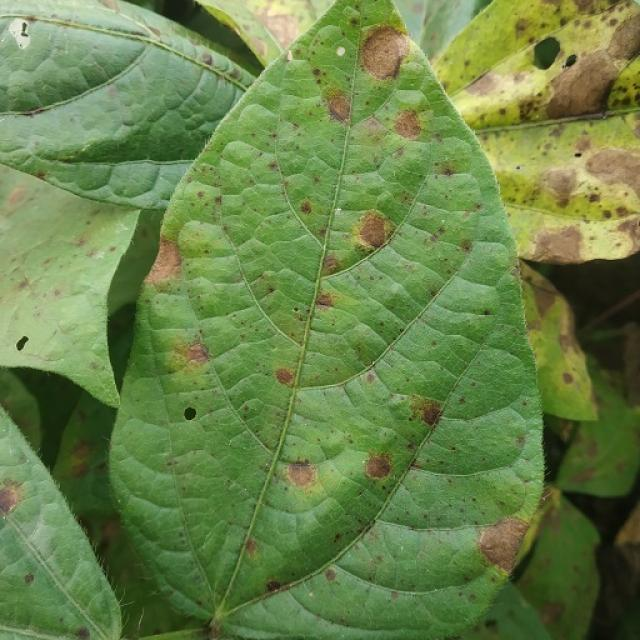Anthracnose: (579, 147, 640, 206), (478, 517, 531, 571), (359, 26, 409, 79), (350, 204, 396, 259), (167, 336, 211, 379), (145, 238, 183, 284), (544, 166, 583, 203), (407, 396, 442, 428), (531, 37, 563, 71), (393, 110, 421, 139), (364, 453, 393, 481), (286, 461, 316, 488), (0, 482, 24, 515), (327, 94, 351, 122), (359, 115, 385, 137), (274, 366, 296, 386), (573, 134, 593, 154), (321, 255, 340, 275), (315, 292, 333, 307), (182, 405, 198, 421), (245, 538, 258, 556), (203, 621, 217, 637), (15, 336, 29, 352), (265, 580, 282, 593), (299, 200, 312, 215), (324, 568, 337, 582), (441, 165, 456, 177), (562, 371, 574, 384), (267, 160, 279, 172)
Blackgram: (110, 0, 541, 639)
